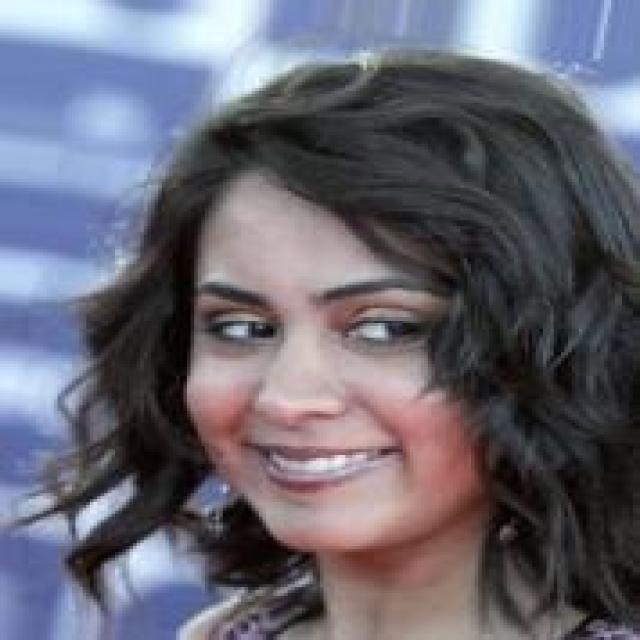bareface: (181, 72, 557, 560)
